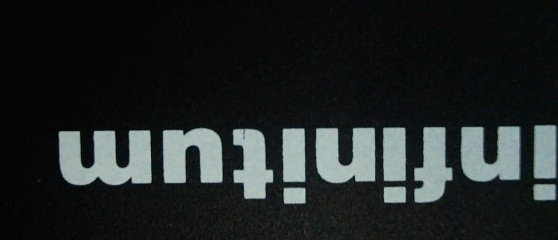BK_infinitum: (49, 118, 557, 205)
